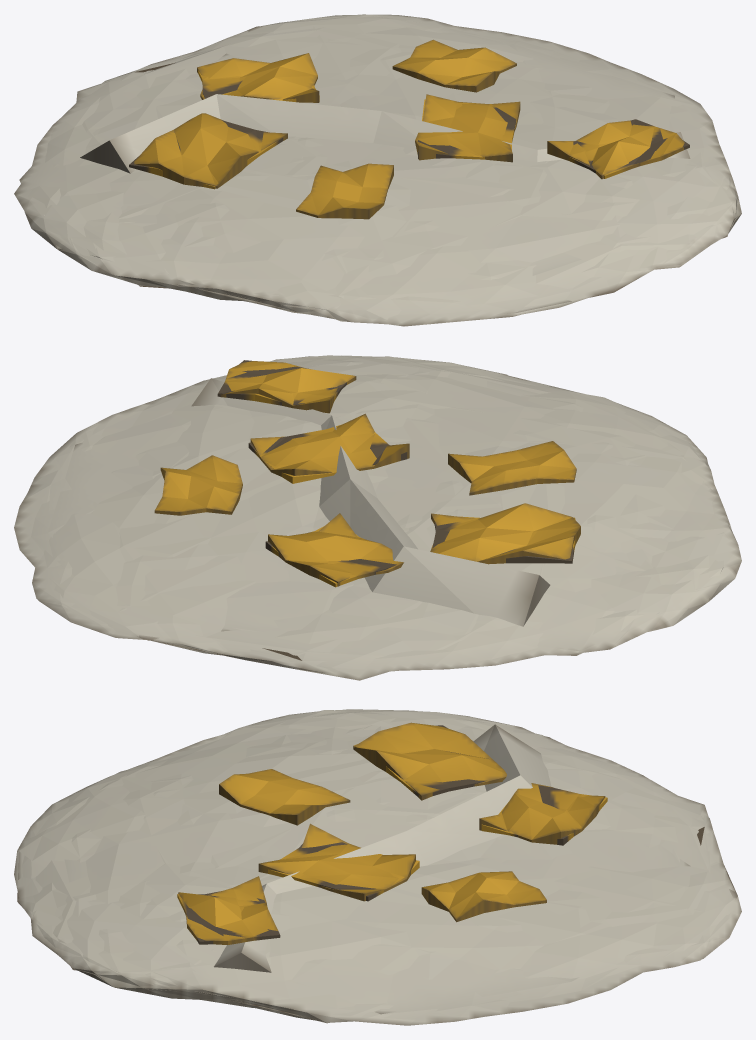
Rendered from SF_INCL_GOLD_LEAF_V1.glb.
3 views of the same model, one above another, from view 1: azimuth 30°, elevation 25°; view 2: azimuth 150°, elevation 25°; view 3: azimuth 270°, elevation 25° (orthographic). The views are drawn at different scales.
Parts seen in each view (by area): view 1: LOD0_SF_INCL_GOLD_LEAF_V1, LOD1_SF_INCL_GOLD_LEAF_V1, LOD2_SF_INCL_GOLD_LEAF_V1; view 2: LOD0_SF_INCL_GOLD_LEAF_V1, LOD1_SF_INCL_GOLD_LEAF_V1, LOD2_SF_INCL_GOLD_LEAF_V1; view 3: LOD0_SF_INCL_GOLD_LEAF_V1, LOD1_SF_INCL_GOLD_LEAF_V1, LOD2_SF_INCL_GOLD_LEAF_V1.
Part boxes in pixels (x1,y1,x2,y2): LOD0_SF_INCL_GOLD_LEAF_V1: (14, 14, 741, 324); LOD1_SF_INCL_GOLD_LEAF_V1: (19, 24, 727, 326); LOD2_SF_INCL_GOLD_LEAF_V1: (118, 43, 727, 288); LOD0_SF_INCL_GOLD_LEAF_V1: (14, 355, 741, 680); LOD1_SF_INCL_GOLD_LEAF_V1: (31, 356, 723, 660); LOD2_SF_INCL_GOLD_LEAF_V1: (48, 381, 653, 660); LOD0_SF_INCL_GOLD_LEAF_V1: (14, 709, 741, 1025); LOD1_SF_INCL_GOLD_LEAF_V1: (17, 710, 737, 1023); LOD2_SF_INCL_GOLD_LEAF_V1: (64, 725, 704, 1014).
Bounding box in the file's own units: 1.16 × 0.1026 × 1.15.
1 material, 1 textured.
